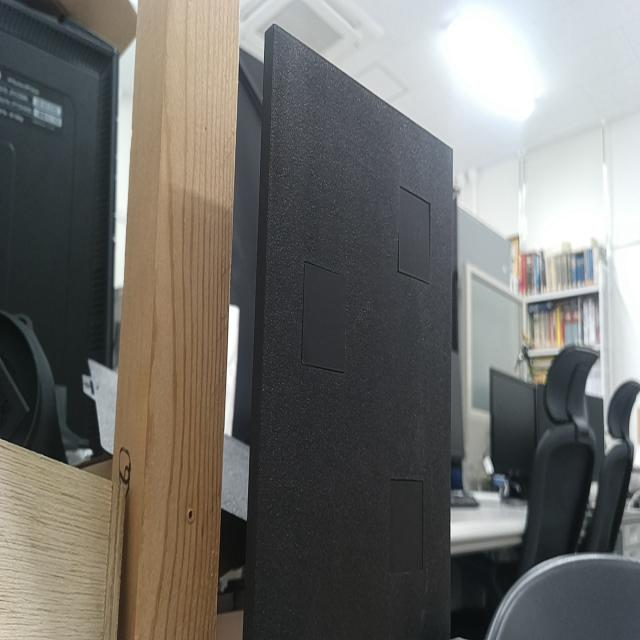Wall: (258, 25, 454, 639)
